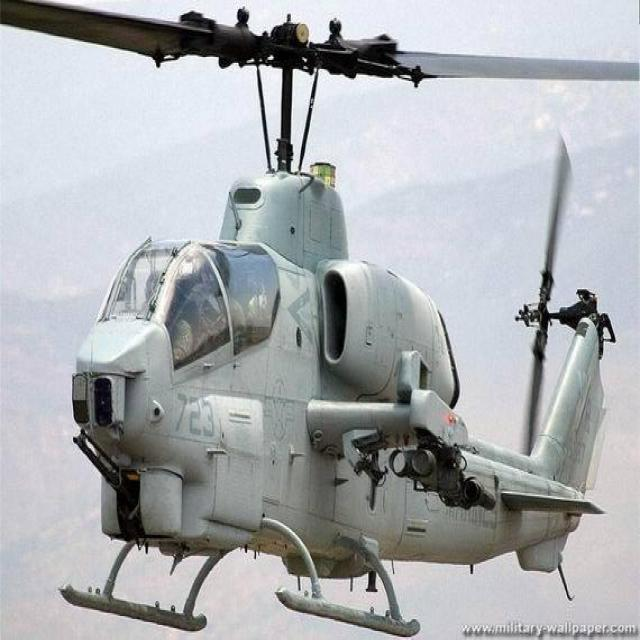MIL_HELO: (4, 0, 622, 632)
